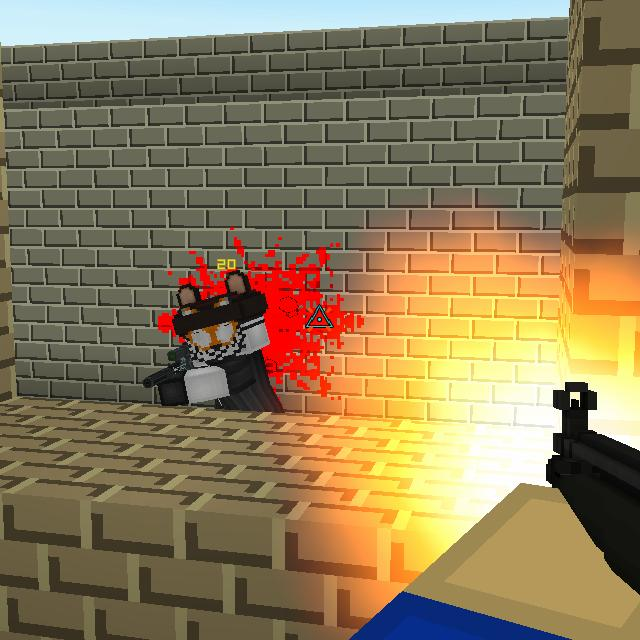enemy: (141, 272, 295, 414)
